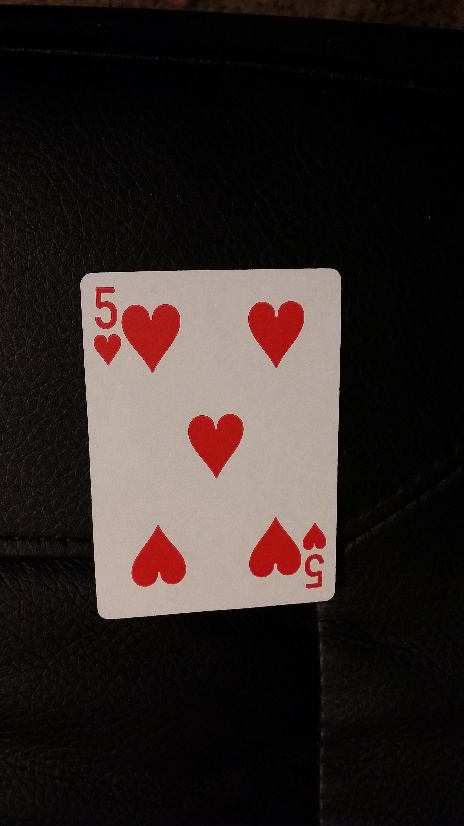H5: (86, 282, 125, 368), (300, 516, 330, 594)
